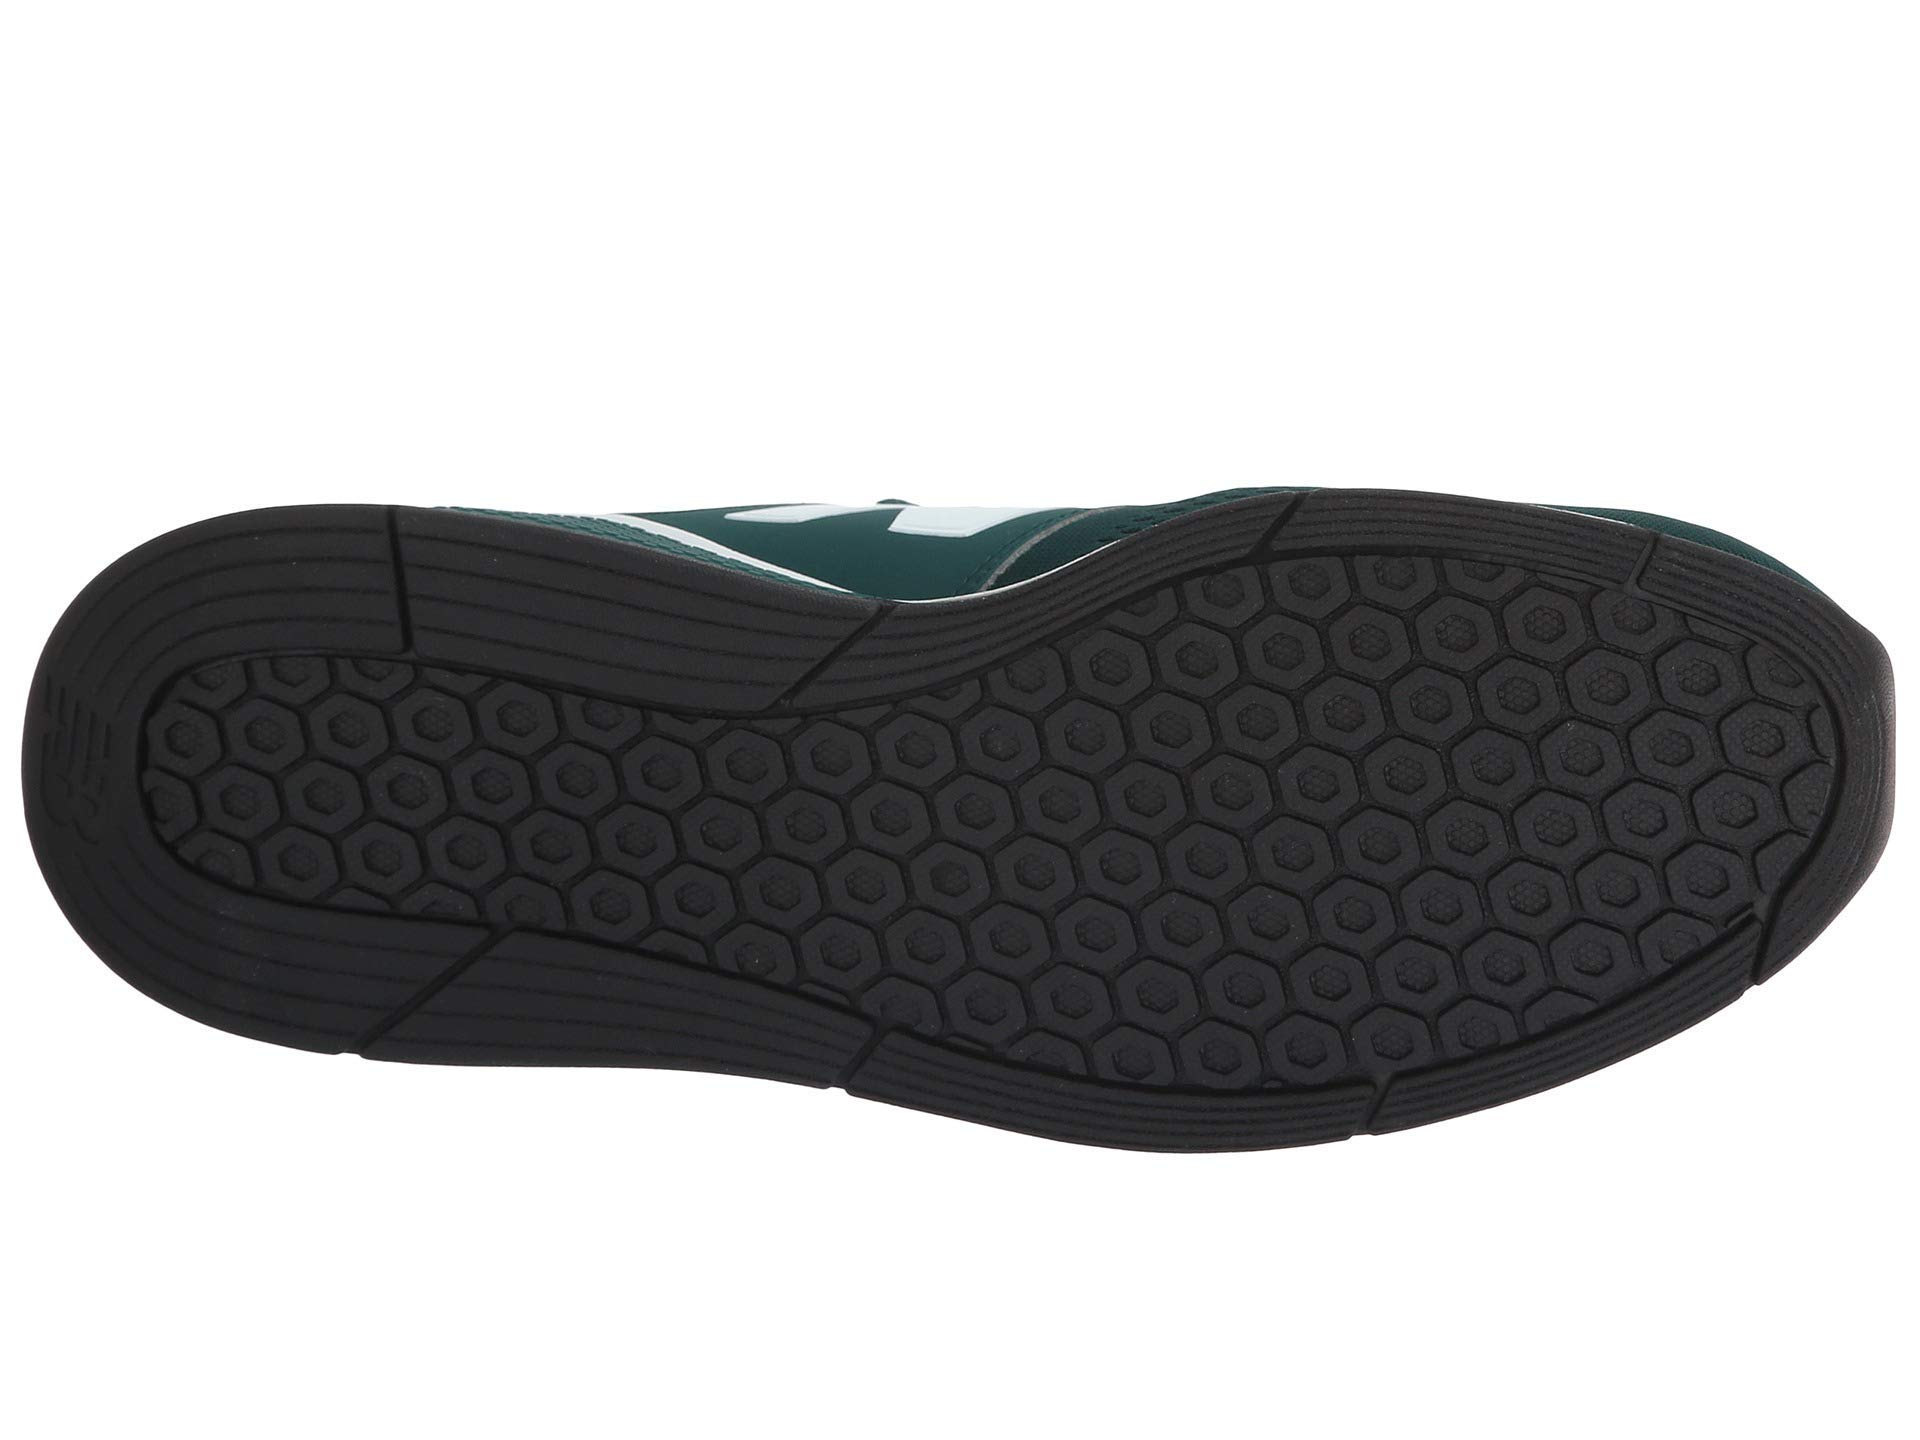polygon: (1249, 597, 1651, 1010), (810, 722, 1169, 1038)
